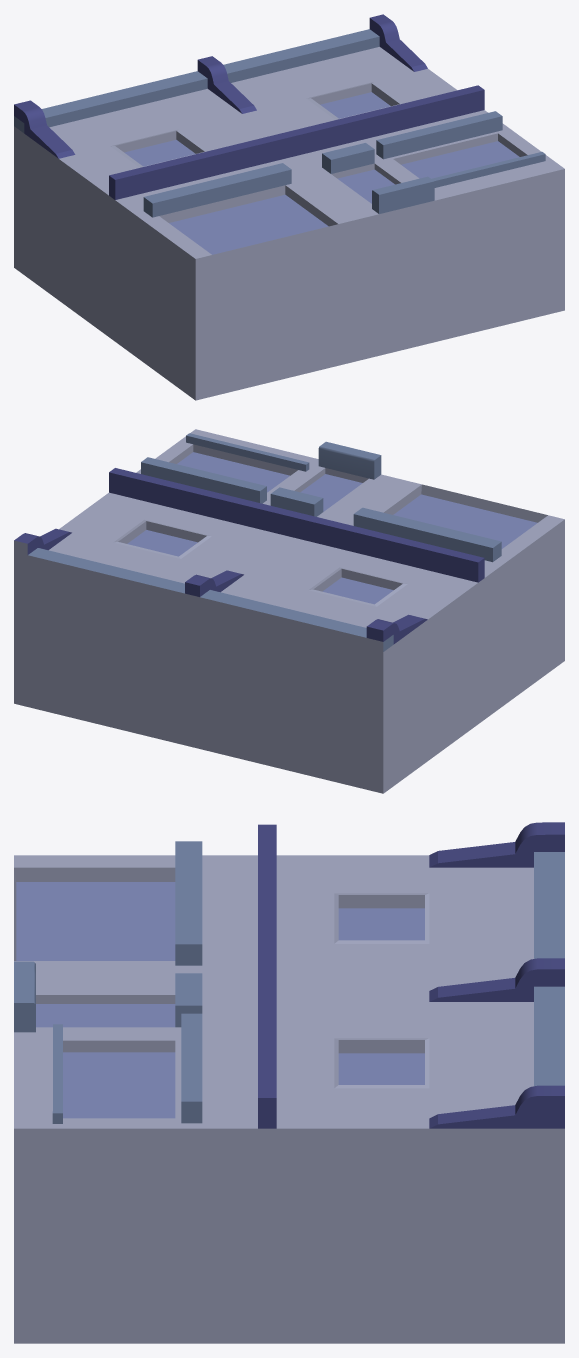
The model's file is RoughHouse1_V1.fbx.
3 renders of one model, top to bottom at view 1: azimuth 30°, elevation 25°; view 2: azimuth 150°, elevation 25°; view 3: azimuth 270°, elevation 25°, orthographic. The views are drawn at different scales.
Visible parts, largest first — view 1: pCube1; view 2: pCube1; view 3: pCube1.
Part boxes in pixels (x1,y1,x2,y2): pCube1: (14, 14, 564, 400); pCube1: (14, 429, 564, 793); pCube1: (14, 822, 564, 1343).
Size of the model in its own units: 443 by 187 by 377.
